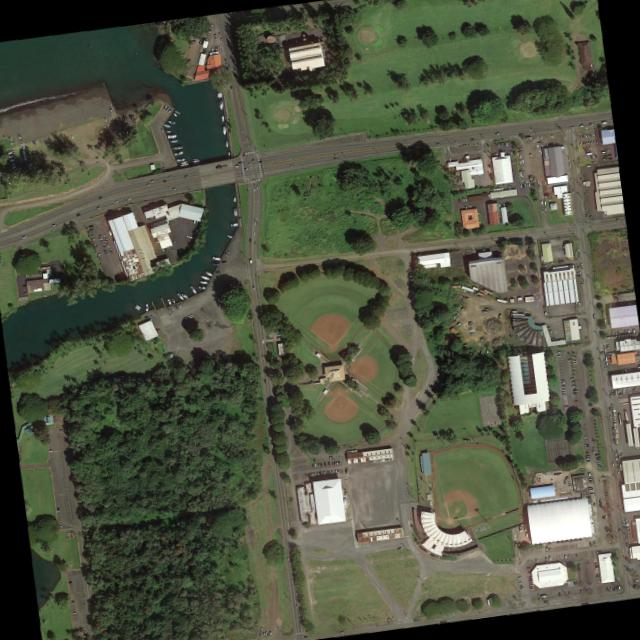large-vehicle: (108, 230, 113, 237), (519, 526, 523, 533), (214, 34, 218, 40), (488, 599, 491, 607), (541, 595, 548, 598), (593, 447, 596, 454), (602, 122, 608, 125)
ship: (177, 293, 185, 301), (190, 286, 198, 294), (134, 304, 143, 311), (201, 275, 211, 281), (174, 151, 184, 157), (219, 100, 224, 111), (191, 159, 200, 165), (205, 271, 213, 277), (172, 146, 184, 150), (233, 208, 238, 217), (182, 293, 189, 299), (168, 120, 176, 125), (168, 135, 177, 139), (170, 140, 179, 144), (180, 163, 189, 167), (223, 126, 227, 135), (217, 92, 222, 99), (231, 223, 239, 227), (213, 257, 221, 261), (164, 124, 172, 128), (227, 234, 233, 239), (175, 110, 181, 115), (168, 299, 172, 306), (199, 286, 206, 290), (181, 161, 188, 165), (225, 141, 229, 148), (146, 303, 149, 312), (177, 159, 186, 162), (173, 113, 178, 118), (200, 281, 208, 284), (172, 298, 176, 304), (222, 115, 225, 122), (213, 263, 219, 266), (228, 152, 231, 158), (234, 197, 237, 202), (167, 131, 172, 133)
small-vehicle: (545, 266, 551, 271), (201, 308, 206, 313), (225, 253, 230, 258), (591, 132, 596, 137), (529, 153, 534, 158), (208, 24, 214, 28), (187, 236, 193, 240), (609, 303, 613, 309), (568, 162, 572, 168), (558, 261, 565, 264), (327, 471, 331, 476), (207, 30, 212, 34), (549, 556, 553, 561), (457, 322, 462, 326), (452, 316, 456, 321), (455, 313, 459, 318), (398, 547, 403, 551), (164, 105, 168, 110), (168, 109, 172, 114), (168, 309, 172, 314), (97, 253, 101, 258), (609, 415, 613, 420), (635, 575, 640, 579), (587, 155, 591, 160), (621, 369, 625, 374), (577, 568, 582, 572), (579, 135, 583, 140), (582, 141, 586, 146), (584, 141, 588, 146), (529, 128, 534, 132), (593, 140, 597, 145), (576, 564, 581, 568), (549, 329, 553, 334), (583, 147, 587, 152), (586, 146, 590, 151), (578, 302, 582, 307), (547, 326, 551, 331), (207, 26, 213, 29), (543, 601, 549, 604), (558, 592, 561, 598), (545, 556, 548, 562), (336, 460, 339, 466), (596, 574, 602, 577), (613, 437, 616, 443), (609, 406, 612, 412), (608, 157, 614, 160), (624, 301, 627, 307), (549, 262, 555, 265), (171, 241, 177, 244), (604, 318, 607, 324), (544, 200, 547, 206), (517, 148, 523, 151), (564, 405, 570, 408), (576, 272, 582, 275), (542, 265, 548, 268), (222, 260, 226, 264), (150, 315, 154, 319), (189, 315, 193, 319), (191, 314, 195, 318), (104, 237, 108, 241), (90, 228, 94, 232), (92, 238, 96, 242), (623, 523, 627, 527), (623, 526, 627, 530), (622, 520, 626, 524), (568, 592, 572, 596), (584, 156, 588, 160), (592, 155, 596, 159), (594, 154, 598, 158), (590, 155, 594, 159), (626, 386, 630, 390), (625, 369, 629, 373), (631, 368, 635, 372), (584, 135, 588, 139), (587, 134, 591, 138), (582, 135, 586, 139), (590, 141, 594, 145), (587, 141, 591, 145), (589, 146, 593, 150), (251, 159, 256, 162), (250, 260, 253, 265), (262, 339, 265, 344), (264, 379, 267, 384), (245, 168, 250, 171), (341, 3, 346, 6), (207, 28, 212, 31), (200, 38, 203, 43), (219, 32, 222, 37), (229, 81, 232, 86), (230, 85, 233, 90), (224, 82, 227, 87), (529, 582, 534, 585), (442, 612, 445, 617), (526, 533, 529, 538), (458, 198, 461, 203), (465, 197, 468, 202), (503, 203, 506, 208), (519, 585, 524, 588), (314, 472, 317, 477), (309, 473, 312, 478), (334, 461, 337, 466), (288, 542, 291, 547), (287, 557, 290, 562), (105, 118, 108, 123), (167, 107, 170, 112), (265, 631, 268, 636), (150, 318, 155, 321), (102, 234, 107, 237), (103, 245, 108, 248), (58, 429, 63, 432), (261, 627, 264, 632), (263, 632, 266, 637), (106, 243, 111, 246), (52, 224, 57, 227), (168, 176, 173, 179), (115, 201, 120, 204), (22, 236, 27, 239), (76, 214, 81, 217), (109, 250, 114, 253), (625, 537, 628, 542), (622, 504, 625, 509), (613, 432, 616, 437), (613, 390, 616, 395), (589, 542, 592, 547), (633, 558, 636, 563), (615, 390, 618, 395), (624, 330, 627, 335), (592, 161, 597, 164), (586, 165, 591, 168), (602, 151, 607, 154), (634, 387, 637, 392), (629, 302, 632, 307), (637, 350, 640, 355), (617, 331, 620, 336), (633, 329, 636, 334), (627, 302, 630, 307), (580, 125, 585, 128), (589, 123, 594, 126), (553, 142, 556, 147), (541, 200, 544, 205), (576, 146, 579, 151), (568, 156, 571, 161), (498, 143, 501, 148), (504, 151, 507, 156), (508, 150, 511, 155), (510, 150, 513, 155), (518, 151, 523, 154), (585, 444, 590, 447), (585, 446, 590, 449), (597, 457, 602, 460), (600, 499, 603, 504), (568, 554, 571, 559), (576, 553, 579, 558), (572, 385, 577, 388), (580, 283, 585, 286), (593, 314, 596, 319), (561, 379, 566, 382), (562, 389, 567, 392), (562, 391, 567, 394), (571, 378, 576, 381), (605, 154, 612, 156), (248, 163, 252, 166), (254, 188, 257, 192), (216, 271, 220, 274), (253, 285, 255, 291), (262, 356, 265, 360), (412, 357, 415, 361), (345, 469, 348, 473), (228, 35, 231, 39), (220, 38, 223, 42), (193, 38, 197, 41), (193, 40, 197, 43), (225, 58, 228, 62), (546, 548, 549, 552), (529, 579, 535, 581), (452, 612, 455, 616), (535, 559, 538, 563), (501, 204, 504, 208), (519, 576, 523, 579), (320, 463, 323, 467), (311, 473, 314, 477), (305, 474, 308, 478), (332, 462, 335, 466), (332, 456, 335, 460), (328, 461, 331, 465), (324, 462, 327, 466), (312, 464, 315, 468), (313, 459, 316, 463), (388, 619, 391, 623), (209, 353, 213, 356), (35, 140, 38, 144), (110, 108, 113, 112), (101, 240, 105, 243), (101, 242, 105, 245), (179, 305, 182, 309), (172, 307, 175, 311), (105, 240, 109, 243), (57, 510, 61, 513), (69, 581, 73, 584), (73, 612, 77, 615), (185, 175, 189, 178), (163, 180, 167, 183), (98, 206, 102, 209), (99, 196, 103, 199), (107, 245, 111, 248), (92, 234, 95, 238), (94, 243, 98, 246), (104, 250, 108, 253), (624, 531, 627, 535), (624, 529, 628, 532), (612, 462, 615, 466), (615, 453, 618, 457), (580, 590, 583, 594), (617, 586, 620, 590), (635, 558, 638, 562), (617, 390, 620, 394), (628, 330, 631, 334), (580, 177, 583, 181), (604, 156, 608, 159), (606, 149, 612, 151), (632, 388, 635, 392), (628, 369, 631, 373), (596, 567, 600, 570), (449, 158, 452, 162), (579, 62, 582, 66), (575, 140, 578, 144), (580, 142, 583, 146), (542, 207, 545, 211), (506, 143, 509, 147), (454, 141, 458, 144), (470, 139, 476, 141), (484, 144, 487, 148), (500, 143, 503, 147), (495, 133, 501, 135), (504, 143, 507, 147), (534, 176, 536, 182), (522, 184, 525, 188), (575, 400, 579, 403), (584, 436, 588, 439), (539, 478, 542, 482), (572, 190, 575, 194), (558, 351, 562, 354), (558, 355, 562, 358), (23, 285, 28, 287), (338, 469, 340, 474), (336, 470, 338, 475), (332, 470, 334, 475), (330, 471, 332, 476), (220, 44, 222, 49), (212, 48, 214, 53), (227, 67, 229, 72), (235, 68, 237, 73), (232, 54, 234, 59), (324, 471, 326, 476), (320, 472, 322, 477), (529, 577, 534, 579), (550, 547, 552, 552), (463, 197, 465, 202), (499, 203, 501, 208), (330, 456, 332, 461), (340, 632, 345, 634), (529, 585, 534, 587), (270, 631, 272, 636), (99, 238, 104, 240), (49, 450, 54, 452), (173, 188, 178, 190), (150, 180, 155, 182), (334, 158, 339, 160), (618, 505, 620, 510), (596, 577, 601, 579), (619, 585, 621, 590), (594, 541, 596, 546), (635, 580, 640, 582), (623, 302, 625, 307), (603, 159, 608, 161), (603, 153, 608, 155), (623, 386, 625, 391), (603, 309, 605, 314), (578, 156, 580, 161), (546, 143, 548, 148), (527, 183, 529, 188), (529, 183, 531, 188), (586, 456, 591, 458), (586, 458, 591, 460), (597, 460, 602, 462), (598, 464, 603, 466), (565, 555, 567, 560), (568, 359, 573, 361), (561, 386, 566, 388), (573, 360, 578, 362), (573, 362, 578, 364), (531, 588, 534, 591), (32, 141, 35, 144), (100, 235, 103, 238), (185, 318, 188, 321), (110, 248, 113, 251), (611, 391, 614, 394), (614, 587, 617, 590), (629, 369, 632, 372), (637, 366, 640, 369), (606, 366, 609, 369), (590, 134, 593, 137), (537, 478, 540, 481), (596, 141, 599, 144), (254, 184, 256, 188), (257, 185, 259, 189), (254, 222, 256, 226), (250, 239, 252, 243), (339, 461, 341, 465), (207, 33, 211, 35), (231, 50, 233, 54), (218, 46, 220, 50), (216, 47, 218, 51), (226, 63, 228, 67), (318, 473, 320, 477), (530, 581, 534, 583), (519, 582, 523, 584), (308, 474, 310, 478), (319, 463, 321, 467), (315, 464, 317, 468), (530, 586, 534, 588), (268, 634, 270, 638), (52, 139, 54, 143), (72, 135, 74, 139), (59, 526, 63, 528), (260, 633, 262, 637), (162, 128, 164, 132), (147, 184, 151, 186), (128, 198, 132, 200), (96, 245, 98, 249), (105, 253, 109, 255), (290, 165, 294, 167), (335, 155, 339, 157), (618, 470, 620, 474), (611, 586, 613, 590), (597, 551, 599, 555), (595, 563, 599, 565), (616, 219, 620, 221), (24, 293, 28, 295), (605, 366, 607, 370), (604, 359, 606, 363), (615, 332, 617, 336), (545, 208, 547, 212), (508, 186, 512, 188), (571, 178, 573, 182), (579, 161, 581, 165), (437, 143, 441, 145), (496, 144, 498, 148), (531, 183, 533, 187), (521, 184, 523, 188), (525, 184, 527, 188), (573, 393, 577, 395), (588, 387, 592, 389), (588, 389, 592, 391), (587, 460, 591, 462), (573, 389, 577, 391), (596, 454, 600, 456), (598, 462, 602, 464), (599, 466, 603, 468), (573, 391, 577, 393), (578, 249, 580, 253), (572, 381, 576, 383), (573, 357, 577, 359), (254, 232, 256, 235), (255, 242, 257, 245), (521, 588, 524, 590), (174, 307, 176, 310), (163, 168, 166, 170), (616, 458, 618, 461), (591, 64, 593, 67), (533, 183, 535, 186), (496, 153, 498, 156), (95, 163, 100, 164)
storage-tank: (266, 35, 277, 44)
